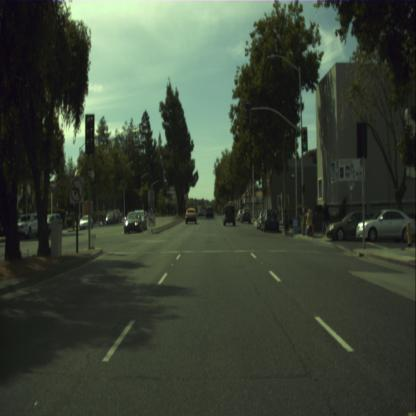Green: (301, 126, 308, 150), (148, 162, 154, 180)
off: (356, 121, 367, 156), (85, 114, 93, 153), (244, 102, 250, 124)
